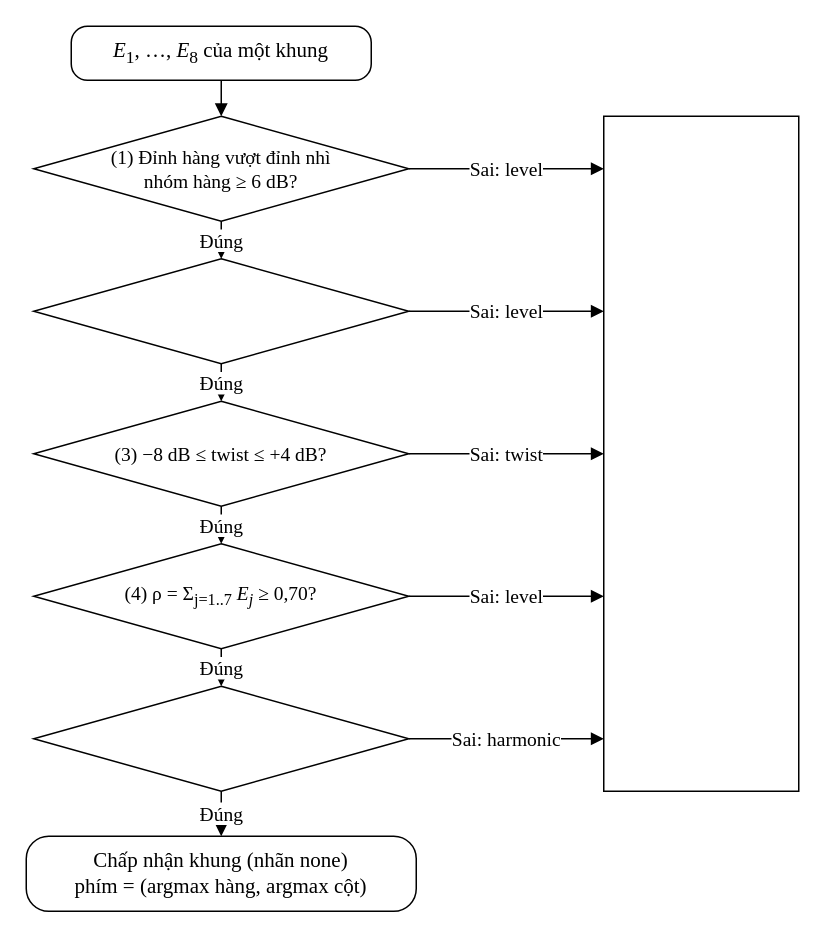
The diagram is 825 pixels wide and 938 high, and some of its shapes have lost their labels. The shapes that lost their labels are listed below. From the top down, each one's centre as x and y in pixels, then its label:
At pixel 220 310: "(2) Đỉnh cột vượt đỉnh nhì nhóm cột ≥ 6 dB?".
At pixel 700 453: "Loại khung gán nhãn của điều kiện đầu tiên không thoả".
At pixel 220 738: "(5) E 8 ≤ 0,5·min( E hàng , E cột )?".
